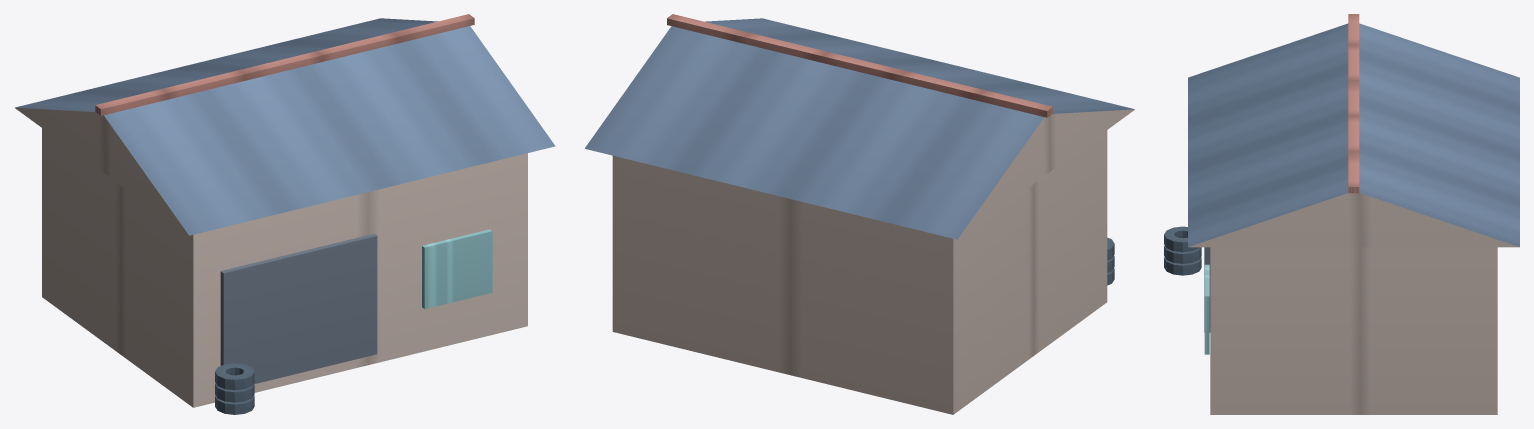
The model's file is workshop.glb.
3 renders of one model, left to right at view 1: azimuth 30°, elevation 25°; view 2: azimuth 150°, elevation 25°; view 3: azimuth 270°, elevation 25°, orthographic. The views are drawn at different scales.
Visible parts, largest first — view 1: workshop; view 2: workshop; view 3: workshop.
Boxes of the visible parts, x1=… form: workshop: x1=15, y1=14, x2=555, y2=414; workshop: x1=585, y1=14, x2=1134, y2=414; workshop: x1=1164, y1=14, x2=1519, y2=414.
Bounding box in the file's own units: 8.26 × 5.28 × 7.18.
1 material, 1 textured.
